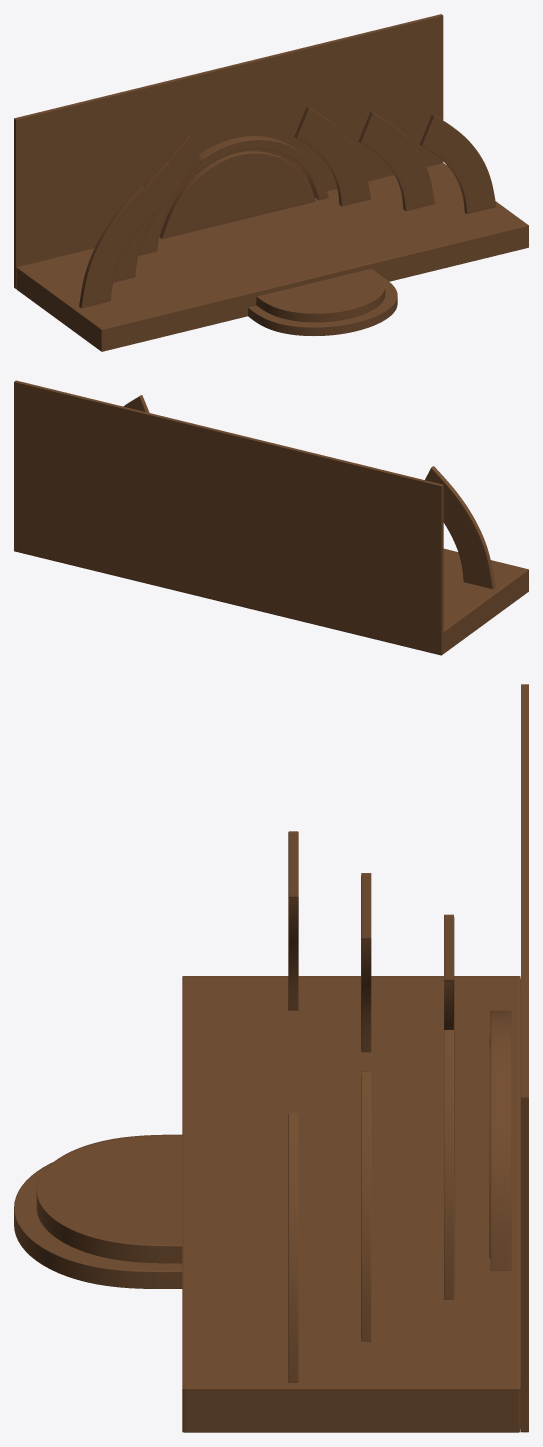
Rendered from emptystagedesing.obj.
3 renders of one model, top to bottom at view 1: azimuth 30°, elevation 25°; view 2: azimuth 150°, elevation 25°; view 3: azimuth 270°, elevation 25°, orthographic. The views are drawn at different scales.
Parts seen in each view (by area): view 1: emptystagedesign; view 2: emptystagedesign; view 3: emptystagedesign.
Part boxes in pixels (box(x1,y1,x2,y2)): emptystagedesign: box(14, 14, 528, 351); emptystagedesign: box(14, 380, 528, 655); emptystagedesign: box(14, 684, 528, 1432).
Size of the model in its own units: 11.85 by 4.49 by 6.25.
